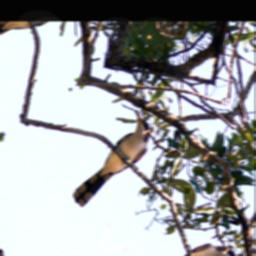Cuckoo: (49, 108, 168, 212)
